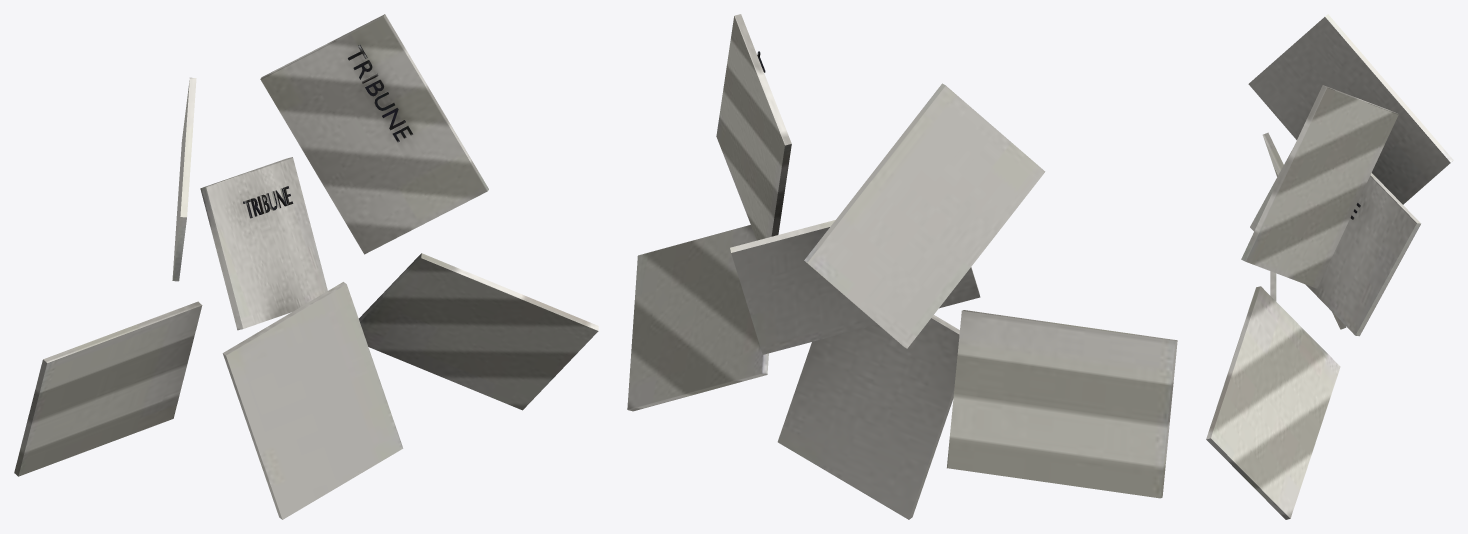
The model's file is periodicos.glb.
3 renders of one model, left to right at view 1: azimuth 30°, elevation 25°; view 2: azimuth 150°, elevation 25°; view 3: azimuth 270°, elevation 25°, orthographic. The views are drawn at different scales.
Visible parts, largest first — view 1: periodicos; view 2: periodicos; view 3: periodicos.
Boxes of the visible parts, x1=… form: periodicos: x1=14, y1=14, x2=598, y2=519; periodicos: x1=627, y1=14, x2=1177, y2=519; periodicos: x1=1206, y1=14, x2=1453, y2=519.
Bounding box in the file's own units: 1.84 × 1.49 × 0.7965.
Materials: 1 (1 with a texture image).
